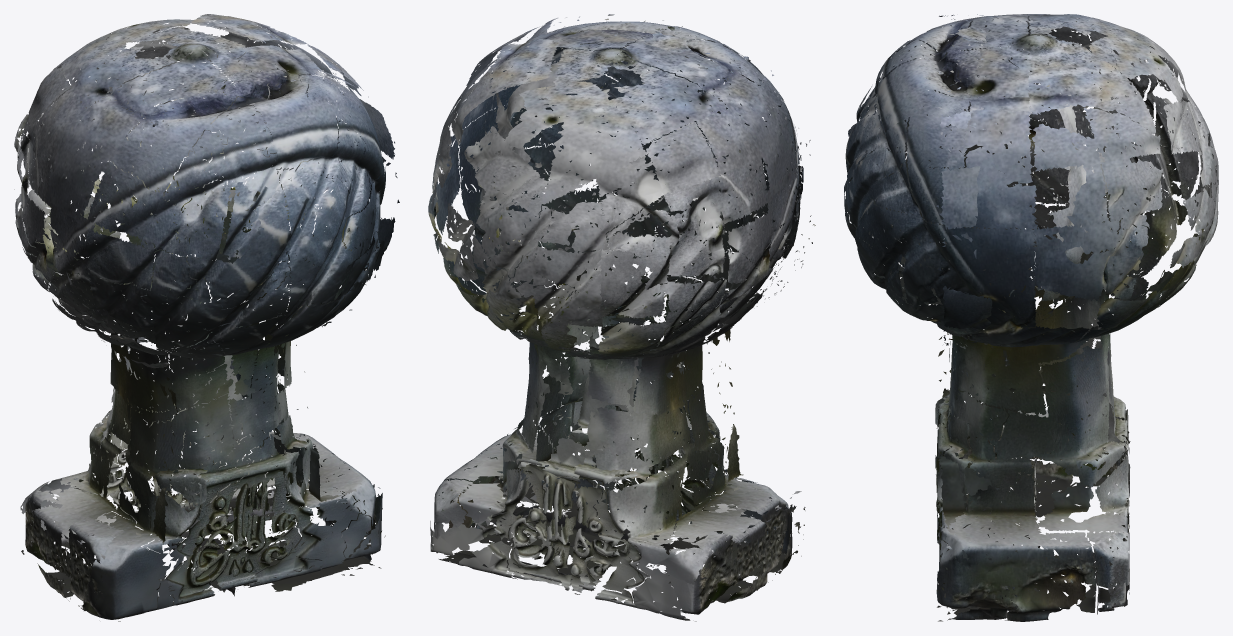
File: orfidestarli.glb
3 views of the same model, side by side, from view 1: azimuth 30°, elevation 25°; view 2: azimuth 150°, elevation 25°; view 3: azimuth 270°, elevation 25° (orthographic).
Parts seen in each view (by area): view 1: Object_6, Object_5, Object_7, Object_4, Object_8; view 2: Object_6, Object_5, Object_4, Object_7, Object_8; view 3: Object_6, Object_7, Object_5, Object_4, Object_8.
Boxes of the visible parts, x1=… form: Object_6: x1=15, y1=19, x2=385, y2=618; Object_5: x1=14, y1=26, x2=384, y2=609; Object_7: x1=14, y1=32, x2=384, y2=619; Object_4: x1=20, y1=14, x2=384, y2=600; Object_8: x1=65, y1=52, x2=399, y2=621; Object_6: x1=432, y1=22, x2=803, y2=603; Object_5: x1=431, y1=21, x2=800, y2=613; Object_4: x1=428, y1=27, x2=799, y2=614; Object_7: x1=433, y1=21, x2=802, y2=621; Object_8: x1=477, y1=14, x2=815, y2=585; Object_6: x1=844, y1=14, x2=1218, y2=619; Object_7: x1=845, y1=16, x2=1211, y2=613; Object_5: x1=844, y1=15, x2=1218, y2=621; Object_4: x1=848, y1=36, x2=1210, y2=618; Object_8: x1=936, y1=14, x2=1123, y2=621.
Size of the model in its own units: 39186 by 62299 by 40951.
Materials: 1 (1 with a texture image).
